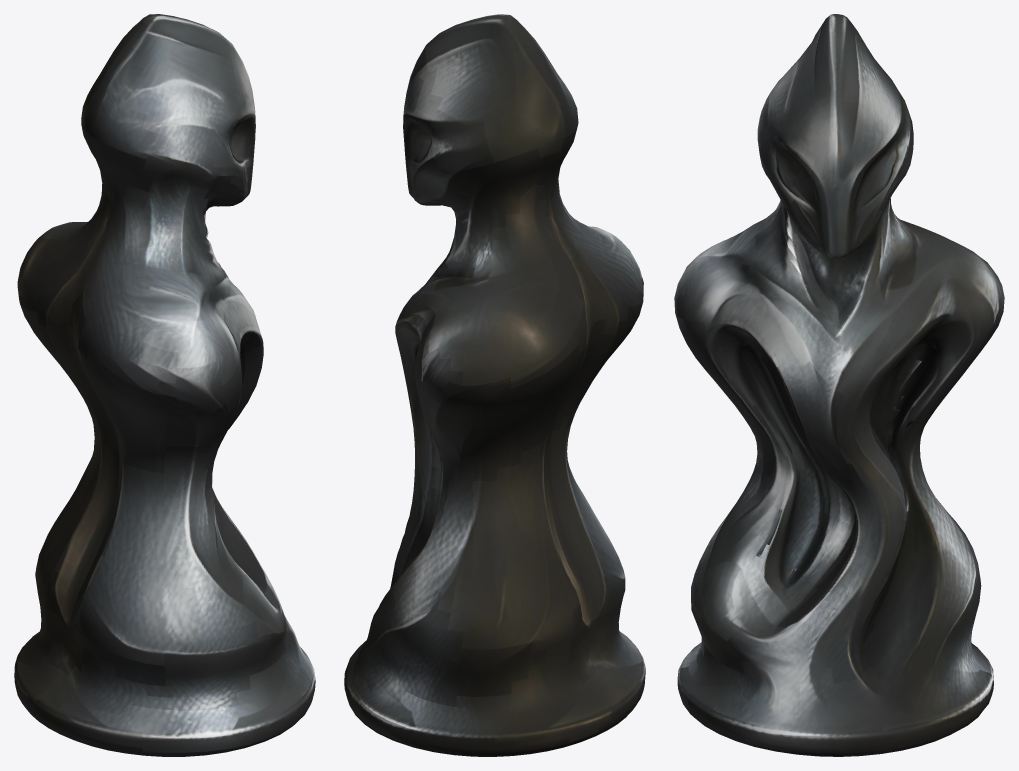
Rendered from alien_statue.glb.
The picture shows the model from 3 angles, left to right: view 1: azimuth 30°, elevation 25°; view 2: azimuth 150°, elevation 25°; view 3: azimuth 270°, elevation 25°; orthographic projection.
Visible parts, largest first — view 1: tripo_node_890d6fb1-aab0-45b1-bff6-6b879f27f176; view 2: tripo_node_890d6fb1-aab0-45b1-bff6-6b879f27f176; view 3: tripo_node_890d6fb1-aab0-45b1-bff6-6b879f27f176.
Boxes of the visible parts, x1=… form: tripo_node_890d6fb1-aab0-45b1-bff6-6b879f27f176: x1=14, y1=14, x2=315, y2=756; tripo_node_890d6fb1-aab0-45b1-bff6-6b879f27f176: x1=344, y1=14, x2=645, y2=756; tripo_node_890d6fb1-aab0-45b1-bff6-6b879f27f176: x1=674, y1=14, x2=1004, y2=756.
Bounding box in the file's own units: 0.3882 × 0.9998 × 0.4359.
1 material, 1 textured.
